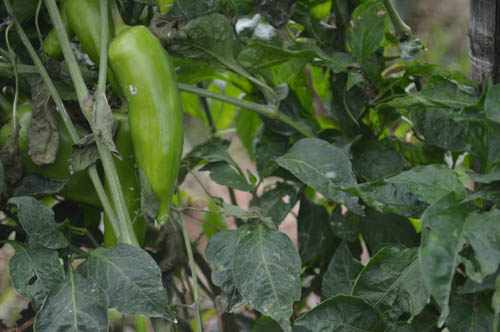ChiliPepper: (114, 26, 181, 217), (14, 110, 96, 202), (94, 123, 144, 247), (62, 7, 117, 84)
